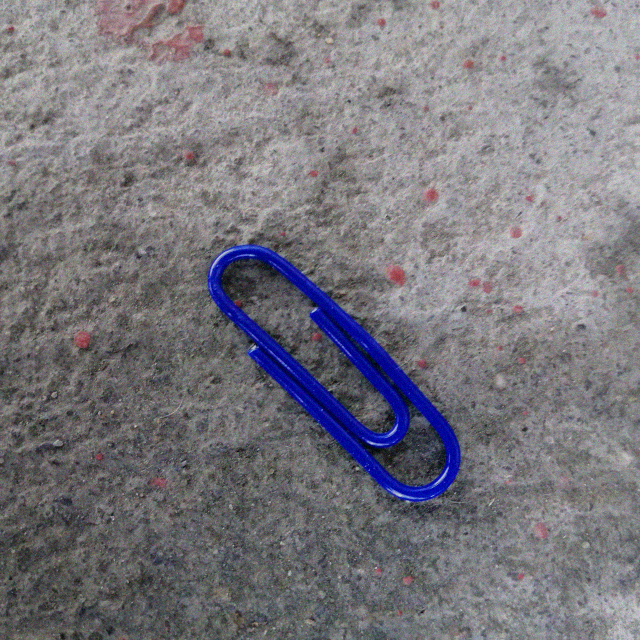pin: (214, 241, 457, 513)
